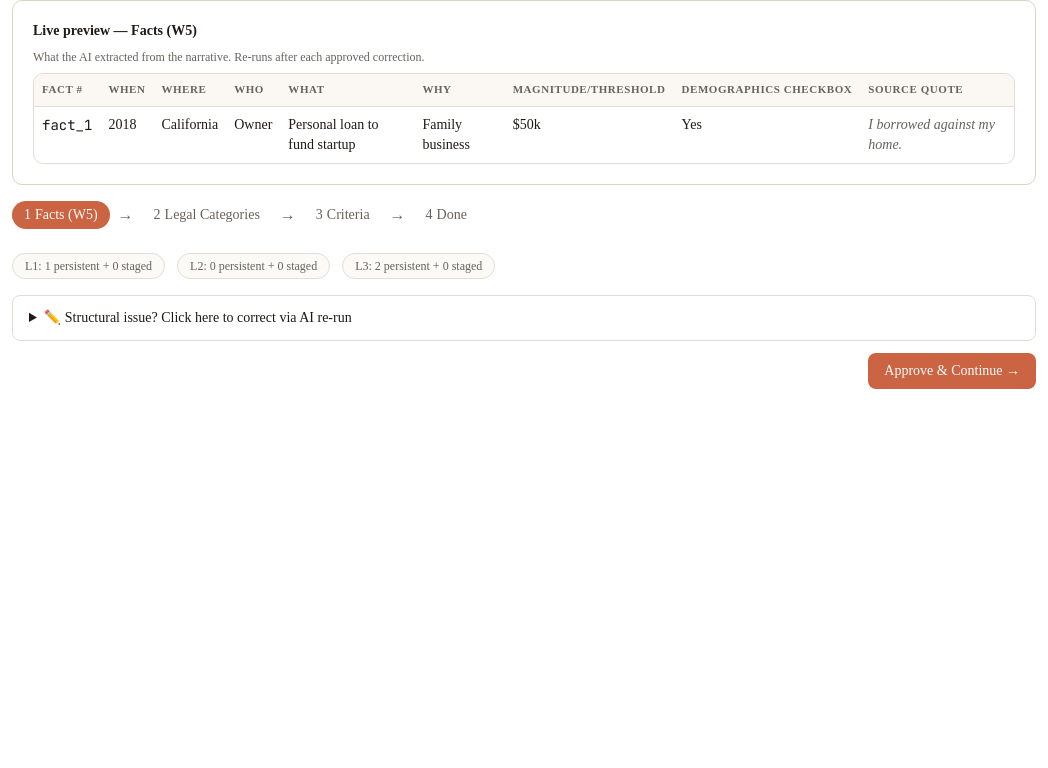
Test: CucpStepper › L1 Approve & Continue POSTs to /level/1/approve and advances to Step 2
Expected: the text "L1: 1 persistent + 0 staged" is shown, [12,253,165,279]
Click the button "Approve & Continue →" at (952, 371), box [868,353,1036,389]
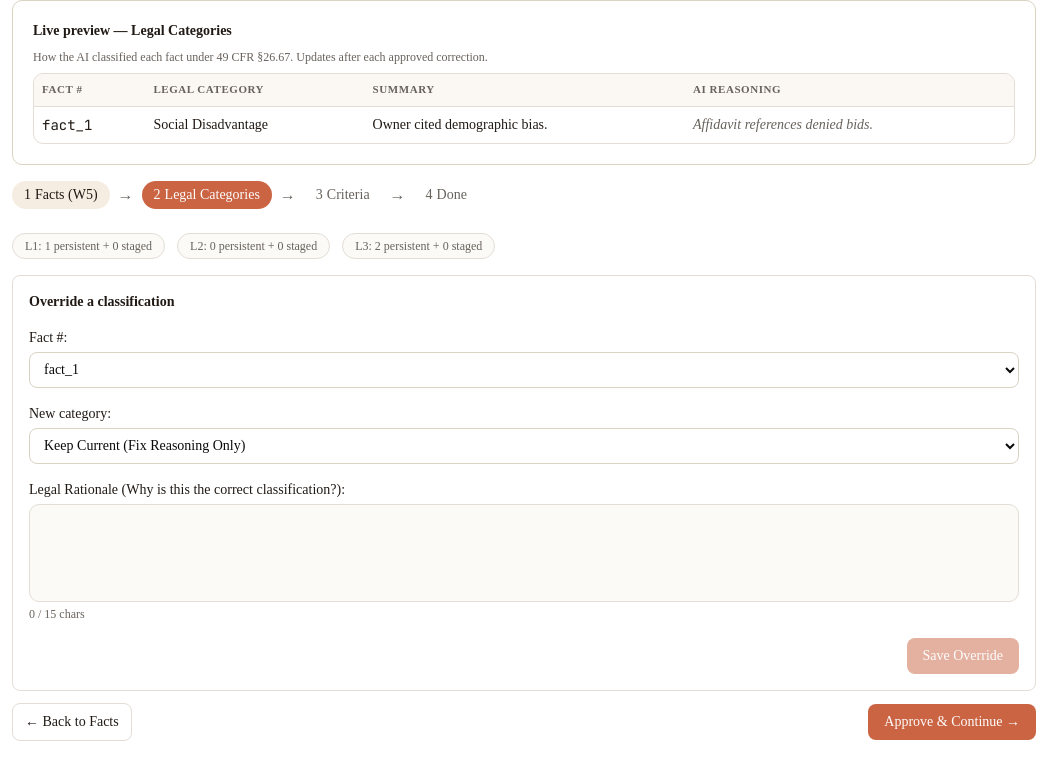
Expected: the column heading "Legal Category" is shown, [145,74,365,106]
